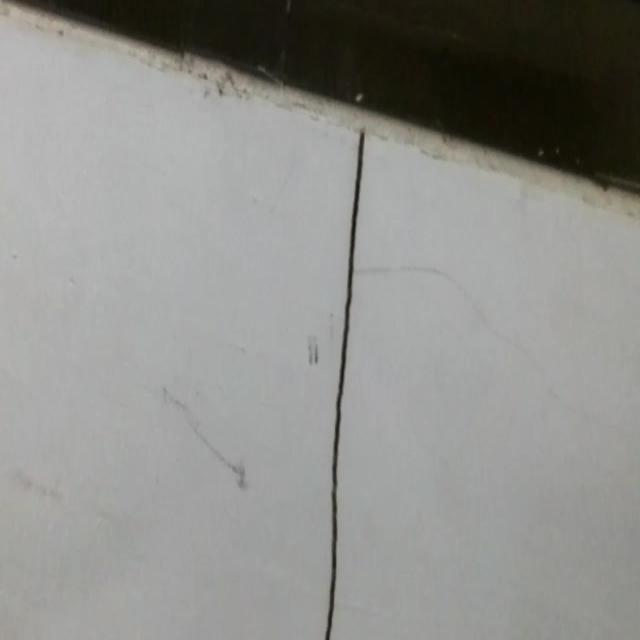Crack: (298, 122, 380, 640), (358, 204, 570, 364)
